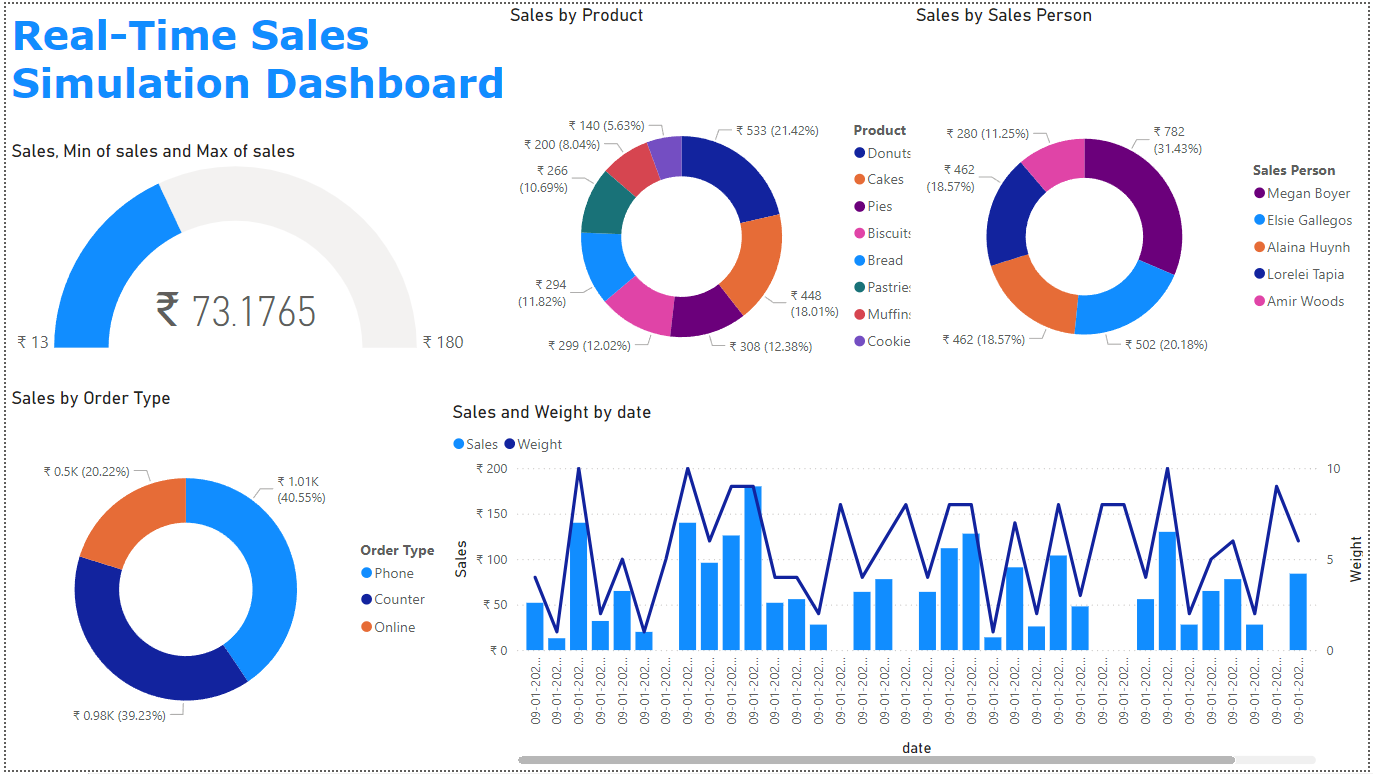

The dashboard page shown, as its layout file describes it:
{"tool":"powerbi","page":{"name":"Page 1","canvas":[1280,720],"ordinal":0},"visuals":[{"type":"textbox","box":[0,0,484,114],"z":0},{"type":"gauge","fields":{"Y":["Orders.sales"],"MinValue":["Orders.sales"],"MaxValue":["Orders.sales"]},"box":[0,128,440,206],"z":1000},{"type":"donutChart","fields":{"Y":["Orders.sales"],"Category":["Order_Type.type"]},"box":[0,360,426,360],"z":2000},{"type":"donutChart","fields":{"Y":["Orders.sales"],"Category":["Product.product_title"]},"box":[468,0,402,418],"z":3000},{"type":"donutChart","fields":{"Y":["Orders.sales"],"Category":["Sales_Person.name"]},"box":[850,0,430,418],"z":4000},{"type":"lineStackedColumnComboChart","fields":{"Category":["Orders.date"],"Y":["Orders.sales"],"Y2":["Orders.weight"]},"box":[414,374,866,346],"z":5000}]}

Visuals, with their boxes in screenshot pixels (x1, y1, x2, y2), scaled from the page's 1280x720 canvas onto the 1373x774 screenshot:
textbox: 0 0 519 123
gauge - Orders.sales x Orders.sales: 0 138 472 359
donutChart - Orders.sales x Order_Type.type: 0 387 457 773
donutChart - Orders.sales x Product.product_title: 502 0 933 449
donutChart - Orders.sales x Sales_Person.name: 912 0 1372 449
lineStackedColumnComboChart - Orders.date x Orders.sales: 444 402 1372 773
